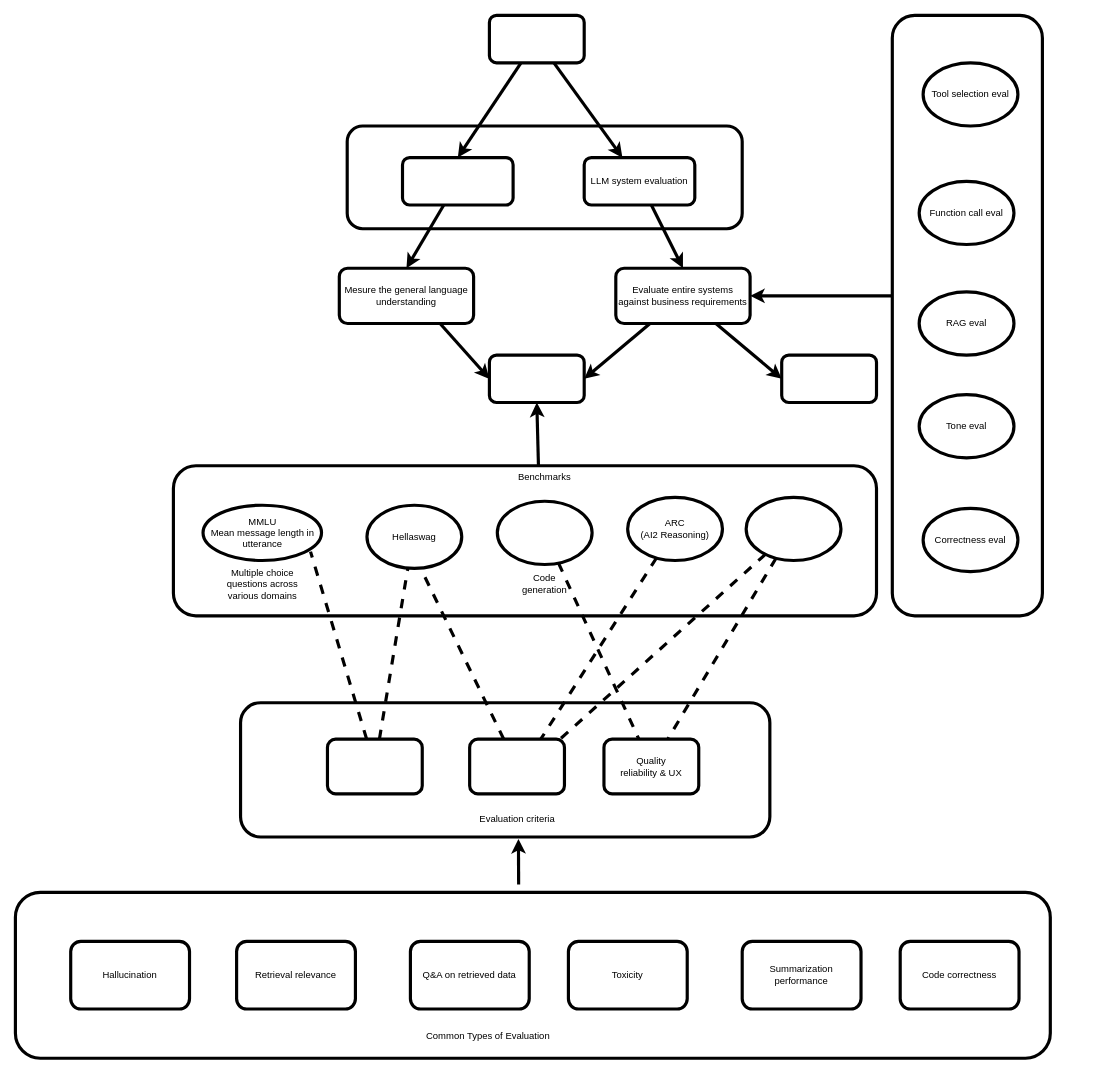
This 1111x1073 diagram has some shape labels left out. The centre of each missing label's shape, as x and y in pixels:
"Effectiveness accuracy & utility" goes at point (517, 766).
"HumanEval" goes at point (544, 532).
"LLM" goes at point (536, 378).
"LLM model evaluation" goes at point (457, 181).
"Performance speed & function" goes at point (374, 766).
"Real world data" goes at point (829, 378).
"Scope of Evaluation" goes at point (536, 38).
"WinoGrande" goes at point (793, 528).
